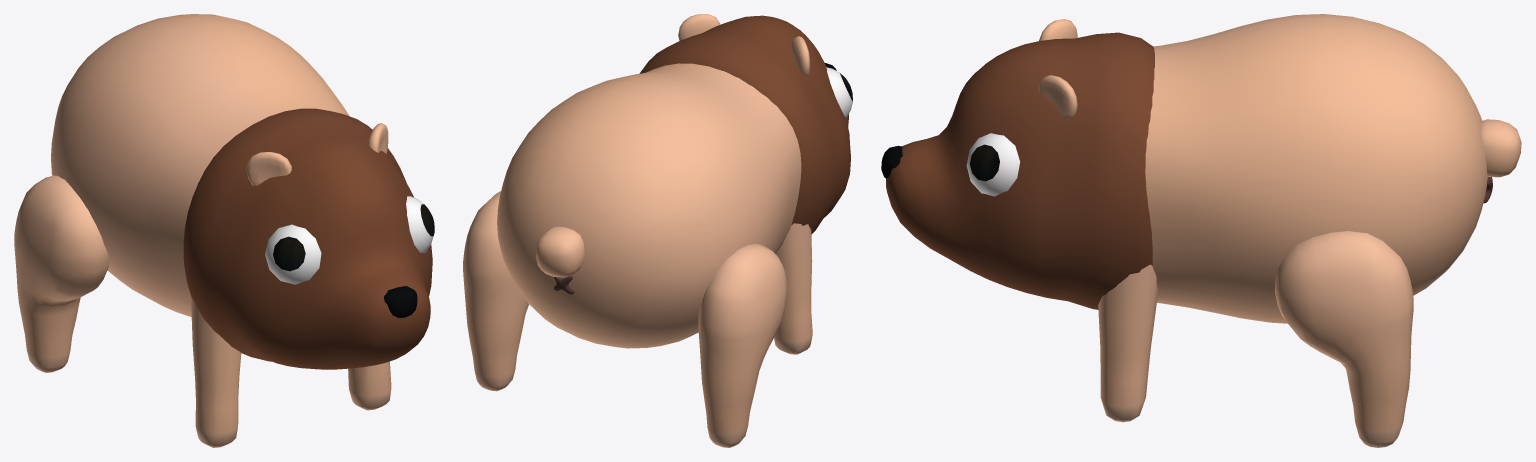
Rendered from Gau_Nude.FBX.
The picture shows the model from 3 angles, left to right: view 1: azimuth 30°, elevation 25°; view 2: azimuth 150°, elevation 25°; view 3: azimuth 270°, elevation 25°; orthographic projection. The views are drawn at different scales.
Parts seen in each view (by area): view 1: gau_nude; view 2: gau_nude; view 3: gau_nude.
Boxes of the visible parts, bbox=[...] form: gau_nude: bbox=[14, 14, 434, 447]; gau_nude: bbox=[463, 14, 852, 447]; gau_nude: bbox=[881, 14, 1521, 447].
Size of the model in its own units: 202 by 198 by 327.
